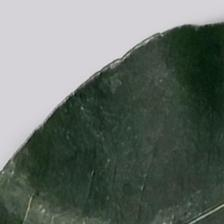healthy: (31, 48, 220, 222)
